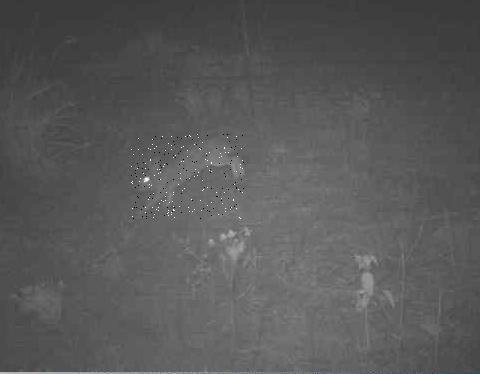Rabbit: (131, 134, 245, 219)
